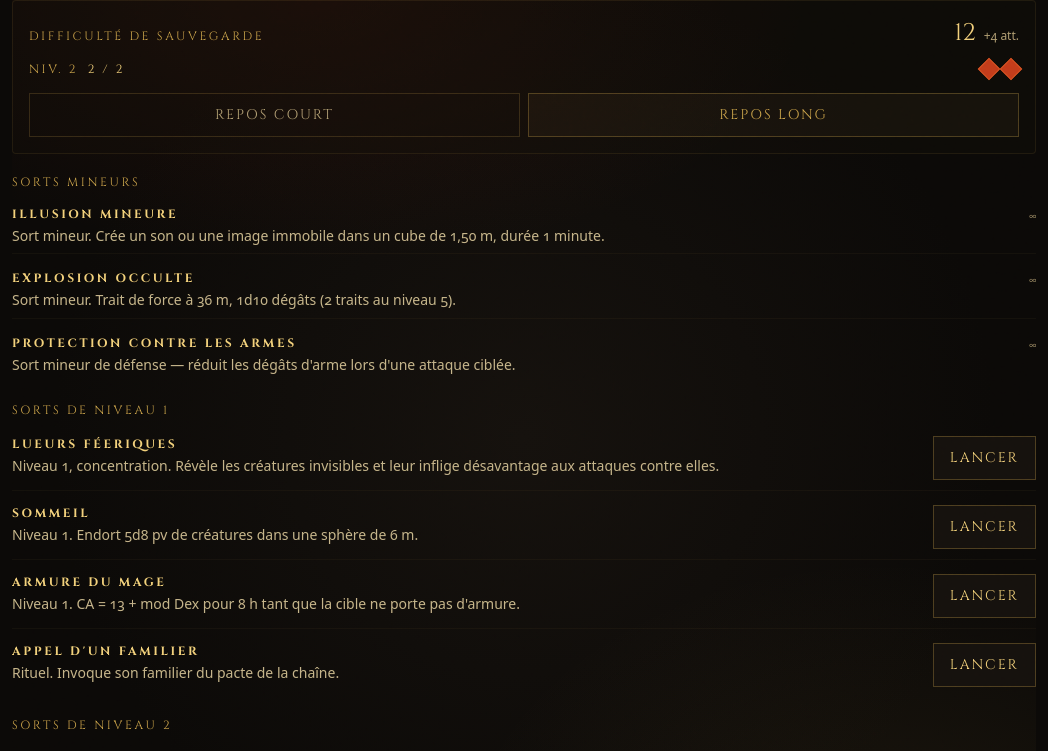
Test: CodexSpells › magie de pacte : Zanna voit ses sorts de niveau 1 et les lance avec ses emplacements de niveau 2
Step 1. Click the button "Lancer" in the row of "Sommeil" → coordinates (984, 527), box [933,505,1036,549]
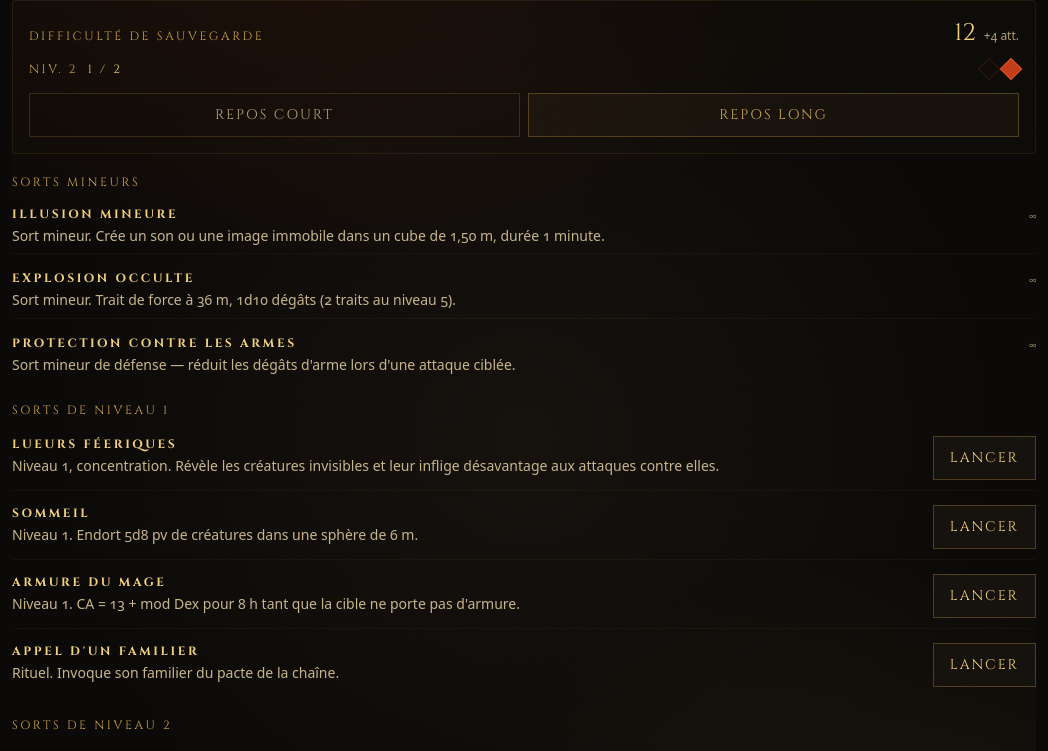
Result: the text with id "slots-count-2" reads "1 / 2" at [88,61,122,77]
